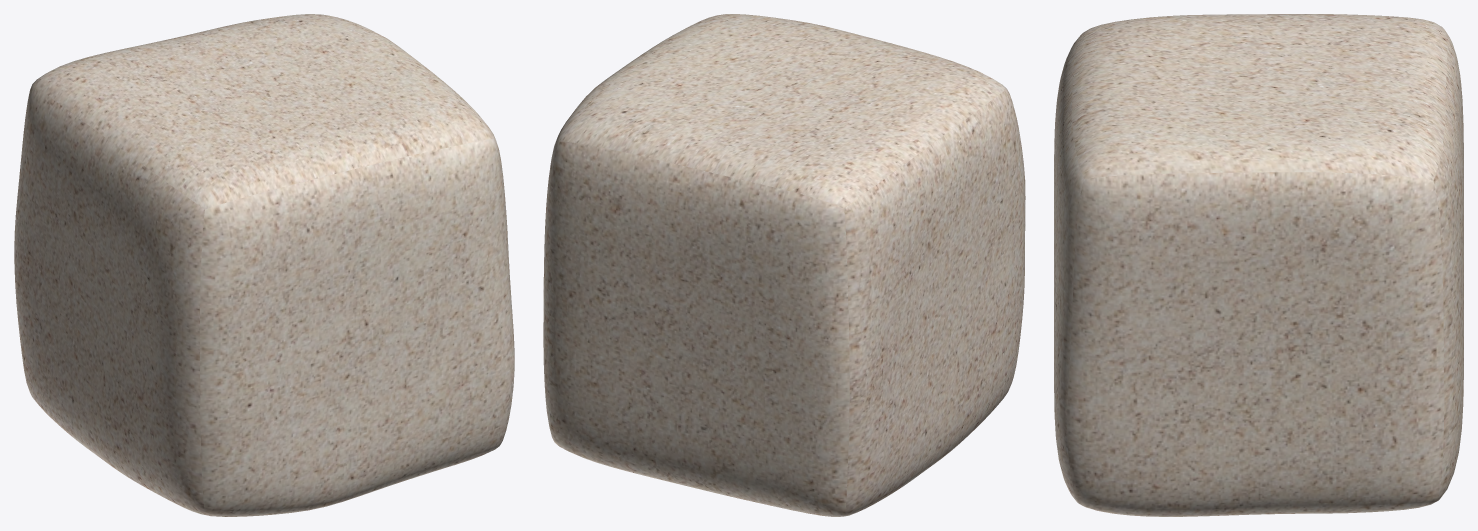
The model's file is SandBlock1.fbx.
The picture shows the model from 3 angles, left to right: view 1: azimuth 30°, elevation 25°; view 2: azimuth 150°, elevation 25°; view 3: azimuth 270°, elevation 25°; orthographic projection. The views are drawn at different scales.
Parts seen in each view (by area): view 1: Cube; view 2: Cube; view 3: Cube.
Boxes of the visible parts, x1=… form: Cube: x1=14, y1=14, x2=514, y2=516; Cube: x1=543, y1=14, x2=1025, y2=516; Cube: x1=1054, y1=14, x2=1463, y2=516.
Size of the model in its own units: 2 by 2 by 2.
Materials: 1 (1 with a texture image).
